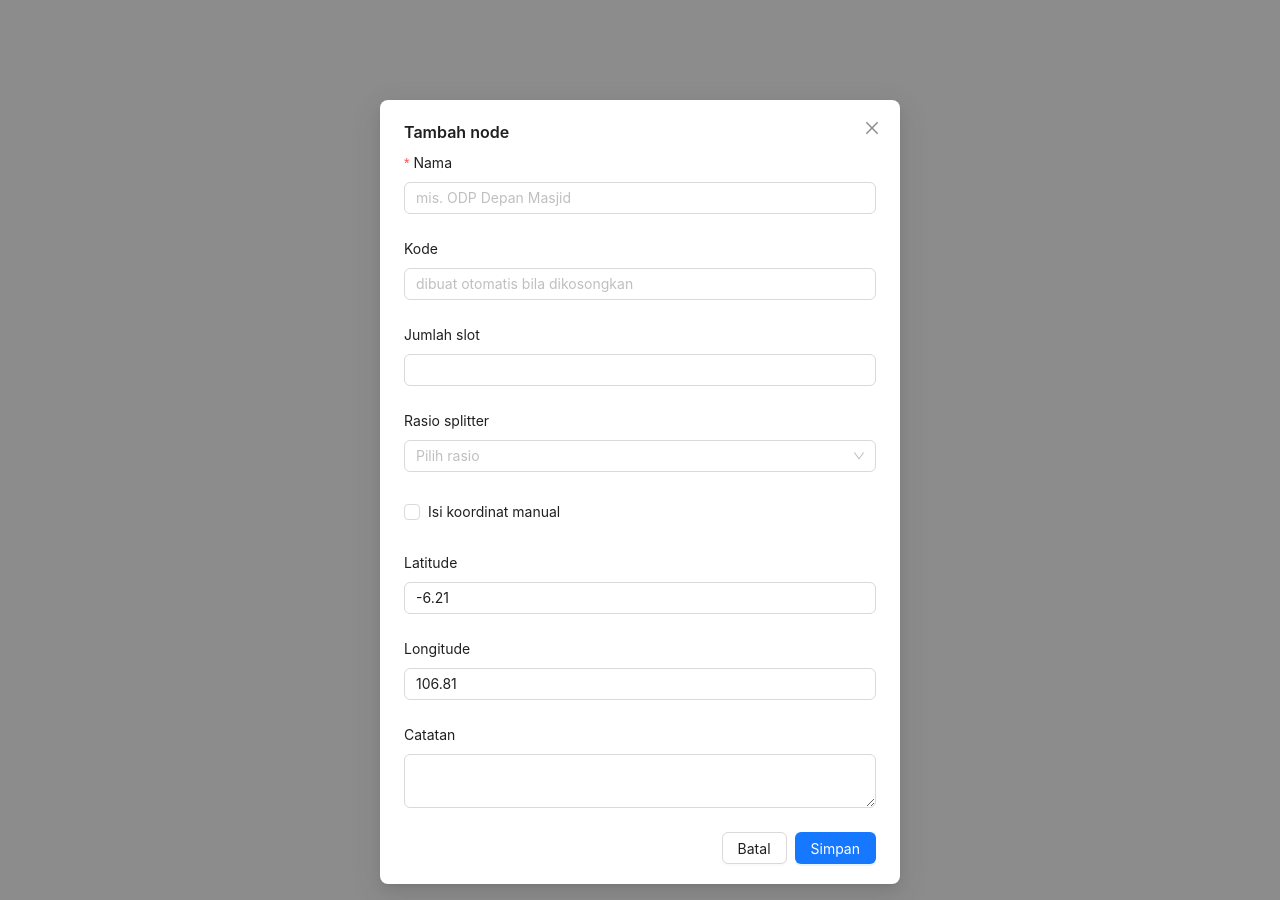
Test: NodeFormModal › offers every splitter ratio this network stocks, and nothing to type
This screenshot has width=1280, height=900.
Click the dropdown labelled "Rasio splitter": coordinates (454, 421) [404, 410, 503, 432]
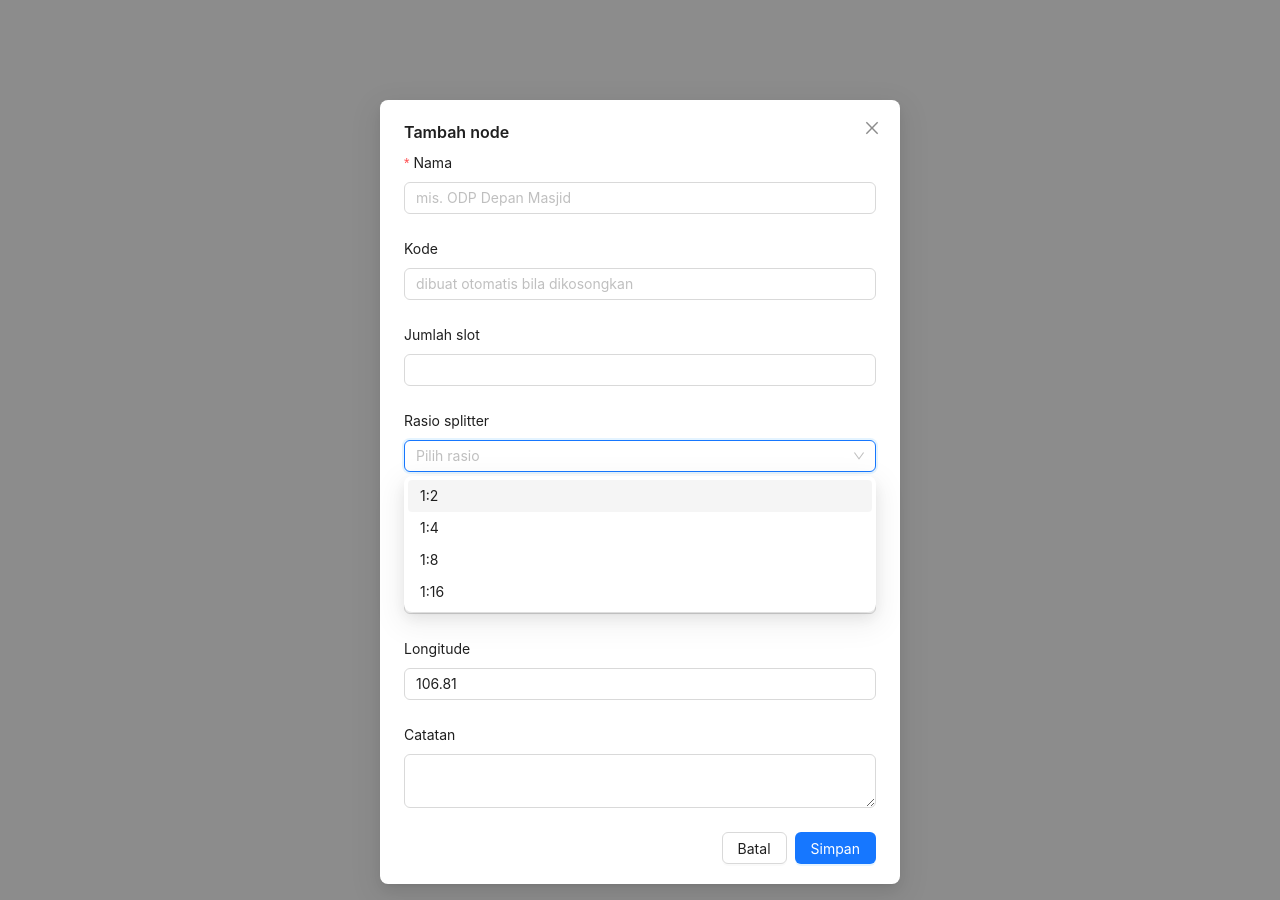
Now the element titled "1:2" is shown, box [408, 480, 872, 512]
Now the element titled "1:4" is shown, box [420, 519, 439, 536]
Now the element titled "1:8" is shown, box [420, 551, 438, 568]
